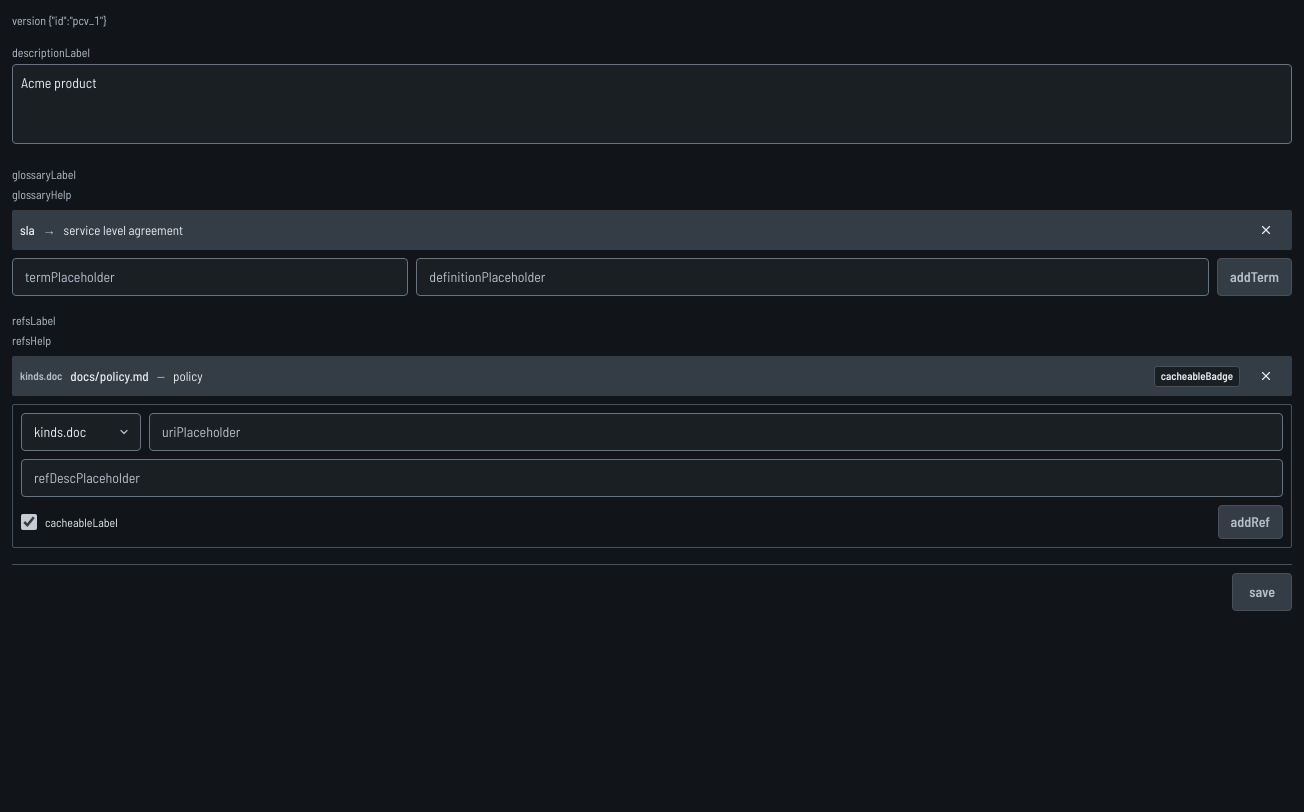
ProjectContextEditor › blocks duplicate glossary keys with an inline message
The width and height of the screenshot is (1304, 812).
Expected: the text "sla" is shown, [20,221,35,240]
Note: Try to add the same term again.
In the field with placeholder "termPlaceholder": (210, 277) [12,258,408,296], type "sla"
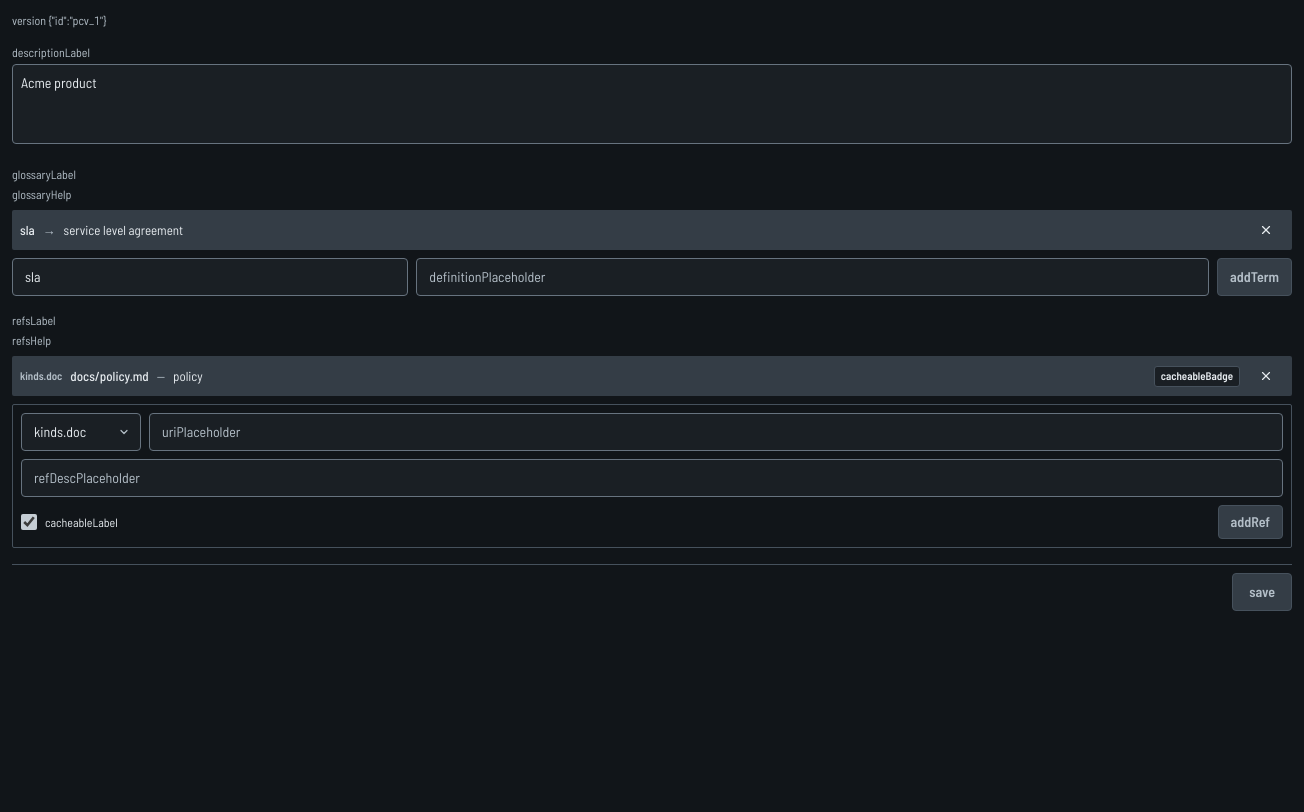
In the field with placeholder "definitionPlaceholder": (813, 277) [416,258,1209,296], type "duplicate definition"
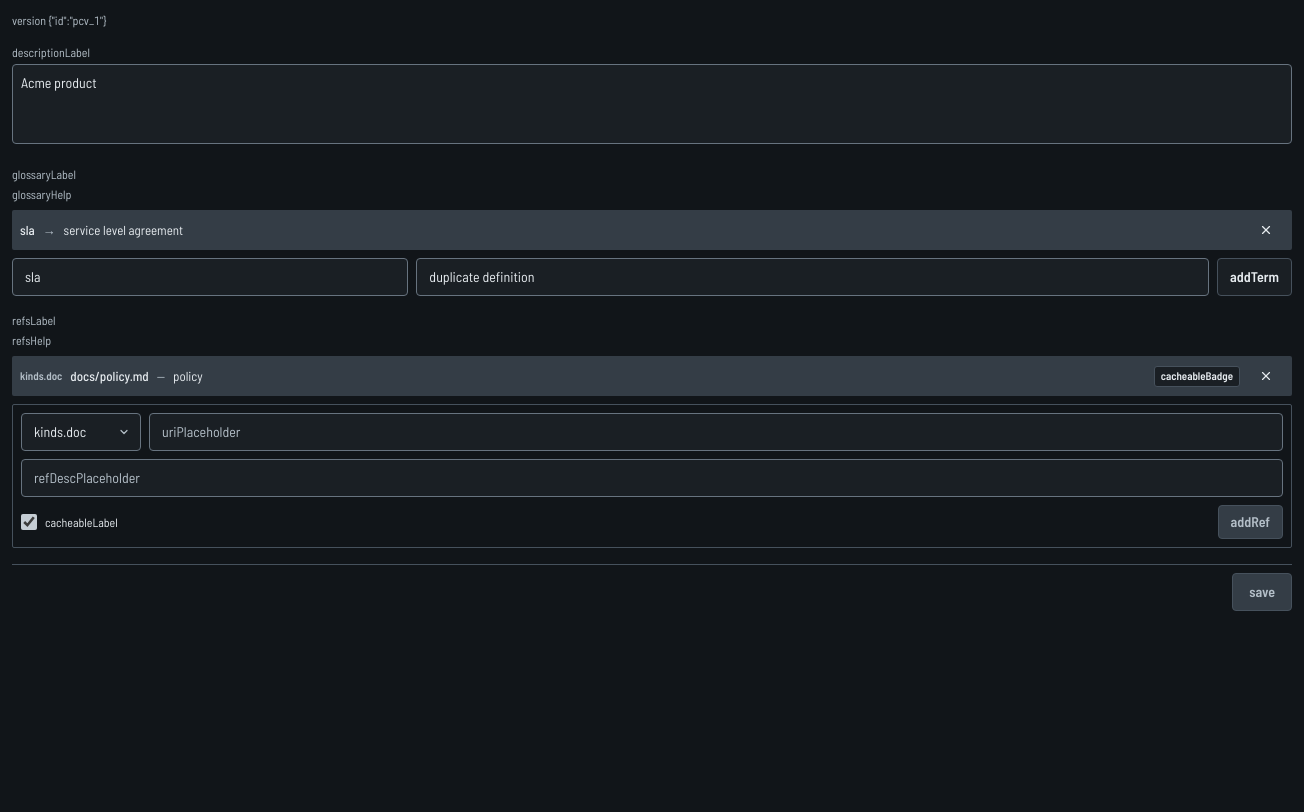
Click the button "addTerm": (1255, 277) [1217,258,1292,296]
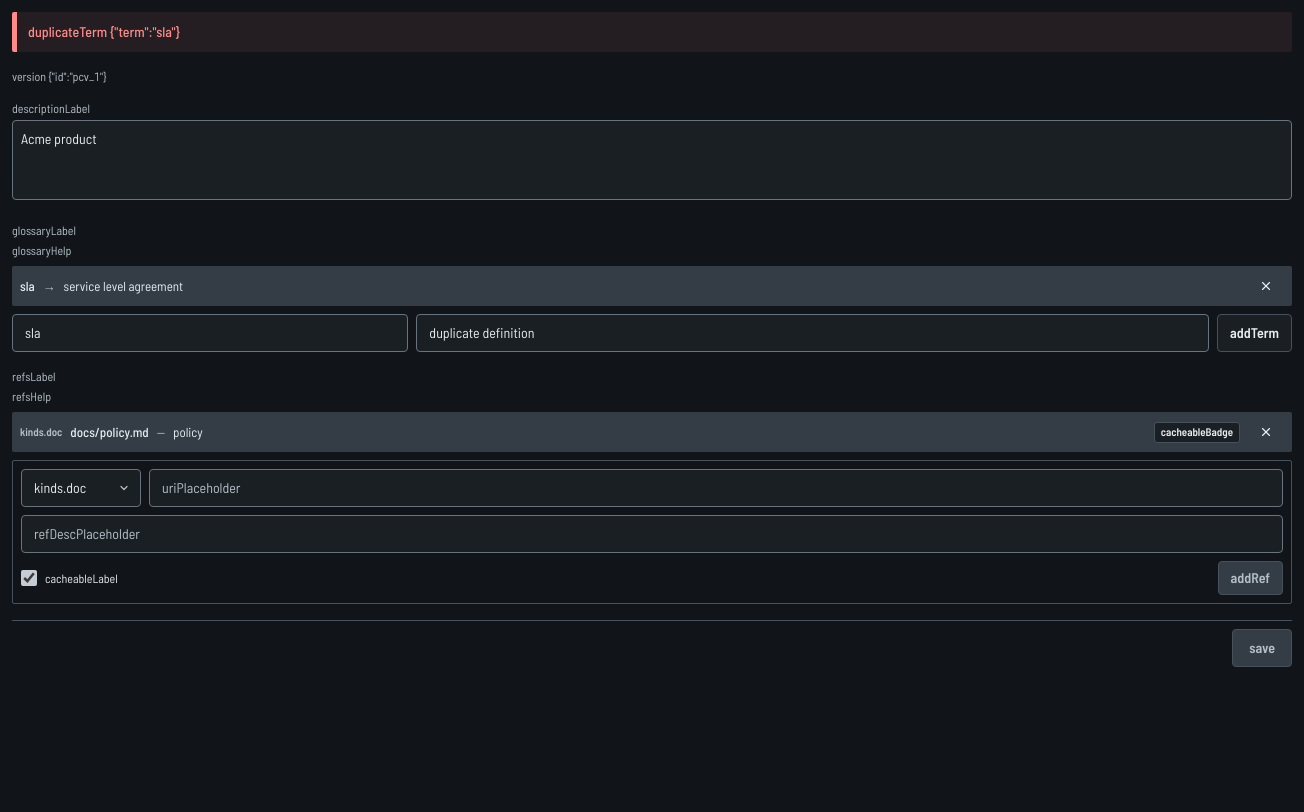
Expected: the text "duplicateTerm {\"term\":\"sla\"}" is shown, [12,12,1292,52]
